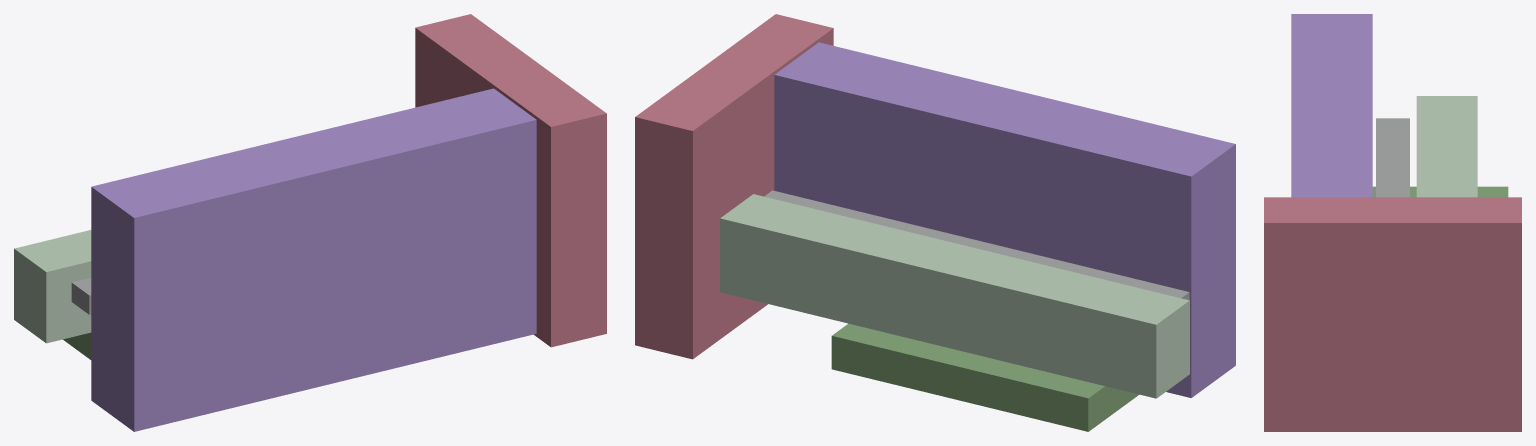
The picture shows the model from 3 angles, left to right: view 1: azimuth 30°, elevation 25°; view 2: azimuth 150°, elevation 25°; view 3: azimuth 270°, elevation 25°; orthographic projection. The views are drawn at different scales.
Visible parts, largest first — view 1: world; view 2: world; view 3: world.
Boxes of the visible parts, bbox=[...] form: world: bbox=[14, 14, 606, 431]; world: bbox=[635, 14, 1235, 431]; world: bbox=[1264, 14, 1521, 431].
Size of the model in its own units: 7.75 by 3.4 by 3.8.
